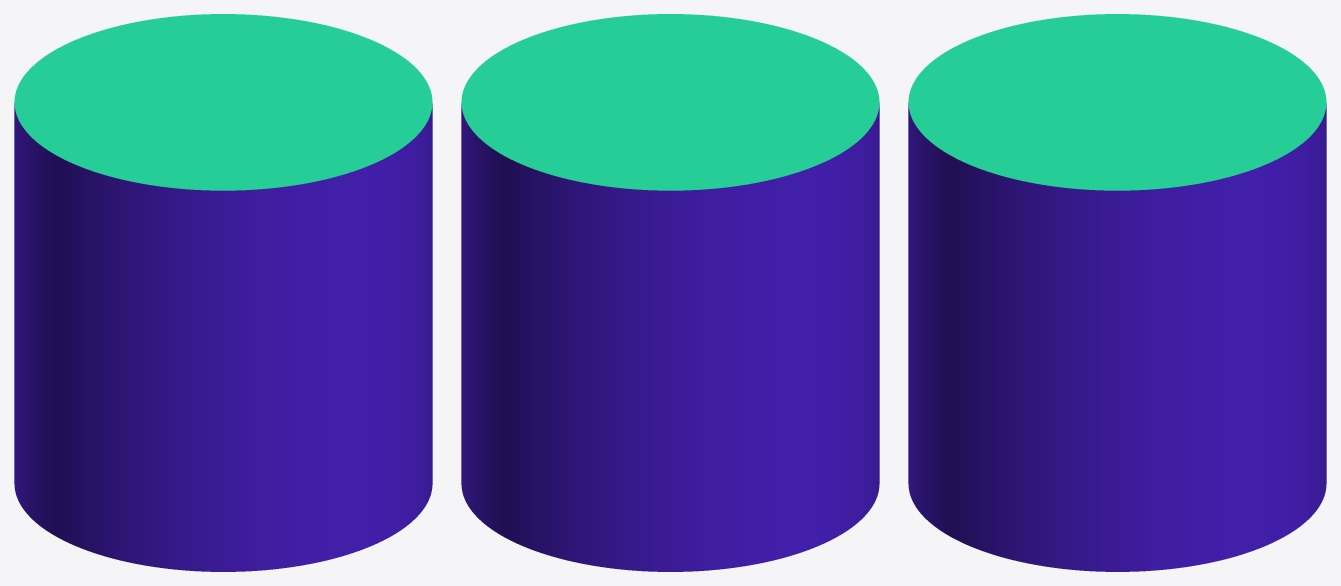
3 renders of one model, left to right at view 1: azimuth 30°, elevation 25°; view 2: azimuth 150°, elevation 25°; view 3: azimuth 270°, elevation 25°, orthographic.
Visible parts, largest first — view 1: Cylinder; view 2: Cylinder; view 3: Cylinder.
Part boxes in pixels (box(x1,y1,x2,y2)): Cylinder: box(14, 14, 432, 571); Cylinder: box(461, 14, 879, 571); Cylinder: box(908, 14, 1326, 571).
Bounding box in the file's own units: 199 × 200 × 199.
